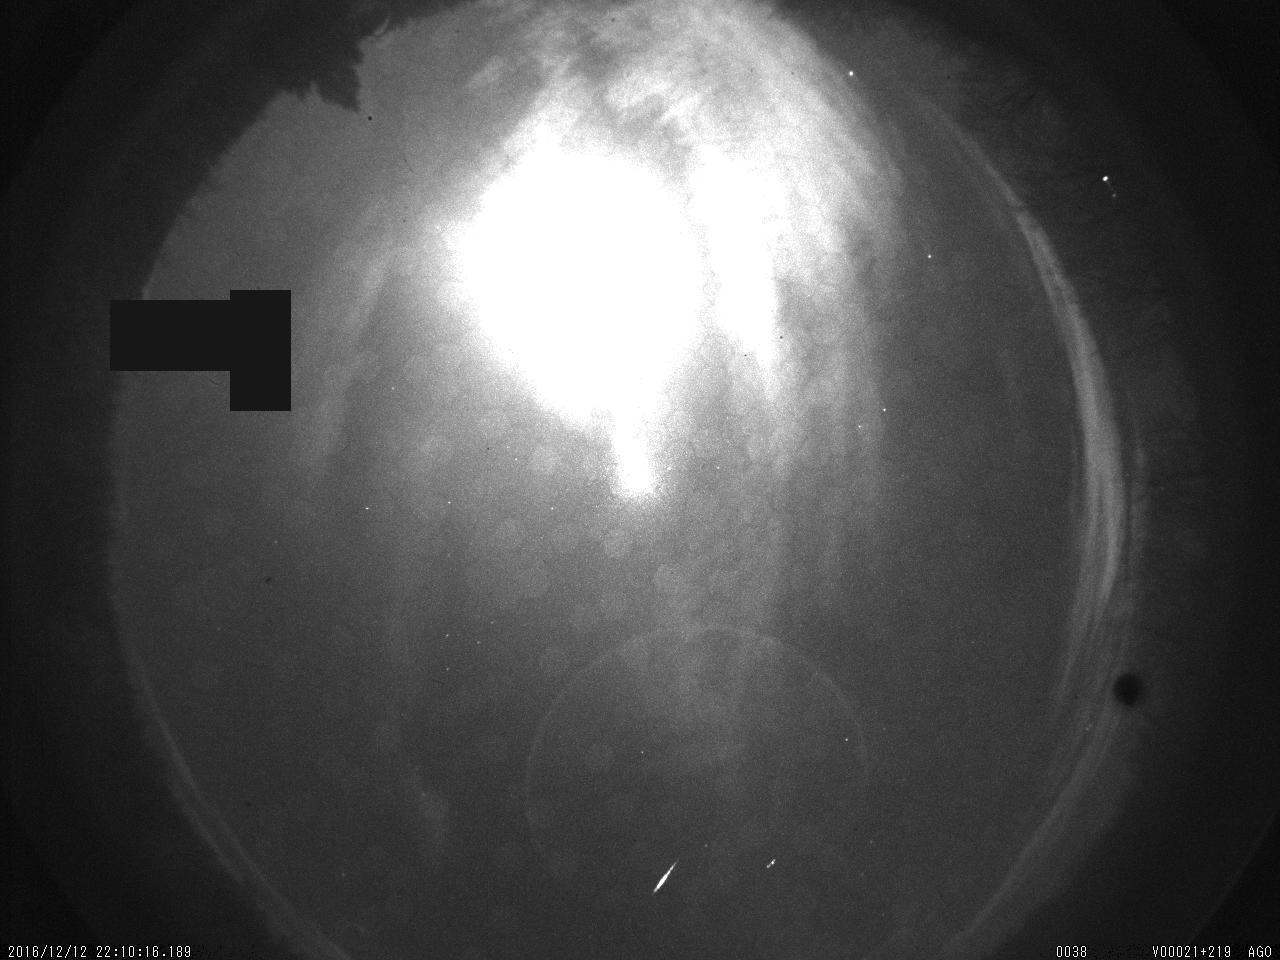Meteor: (644, 852, 685, 905)
